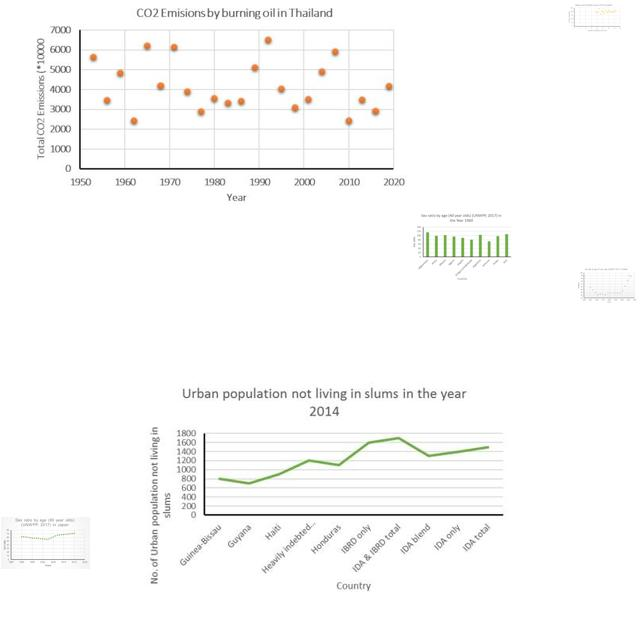Graph: (140, 382, 508, 595), (30, 2, 408, 207), (410, 213, 512, 283), (1, 517, 90, 569), (577, 267, 637, 303), (567, 4, 622, 32)
